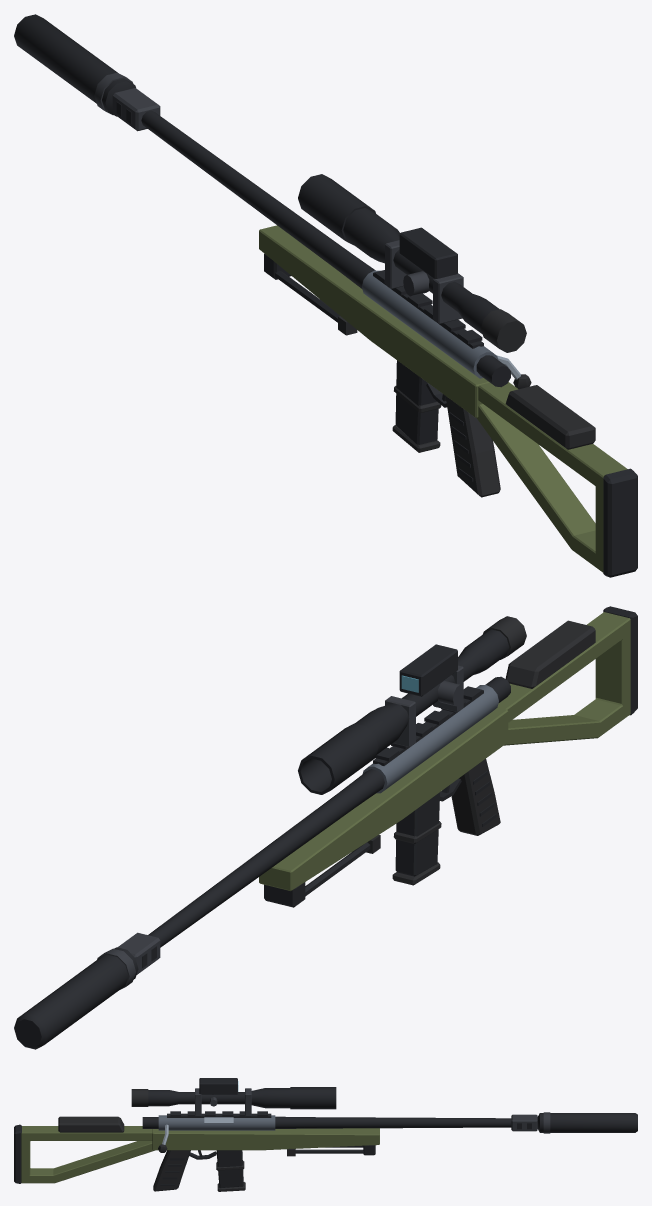
File: sniper_rifle.glb
3 renders of one model, top to bottom at view 1: azimuth 30°, elevation 25°; view 2: azimuth 150°, elevation 25°; view 3: azimuth 270°, elevation 25°, orthographic. The views are drawn at different scales.
Visible parts, largest first — view 1: Body, Att_Scope, Att_Suppressor, Att_ExtMag; view 2: Body, Att_Scope, Att_Suppressor, Att_ExtMag; view 3: Body, Att_Scope, Att_Suppressor, Att_ExtMag.
Boxes of the visible parts, x1,y1,x2,y2 form: Body: (112, 88, 637, 577); Att_Scope: (298, 174, 526, 352); Att_Suppressor: (14, 14, 135, 116); Att_ExtMag: (392, 360, 440, 452); Body: (118, 606, 637, 974); Att_Scope: (298, 616, 526, 794); Att_Suppressor: (14, 947, 138, 1049); Att_ExtMag: (392, 792, 440, 885); Body: (14, 1088, 537, 1191); Att_Scope: (131, 1078, 336, 1109); Att_Suppressor: (537, 1112, 637, 1133); Att_ExtMag: (217, 1150, 245, 1191).
Size of the model in its own units: 0.104 by 0.2874 by 1.49.
